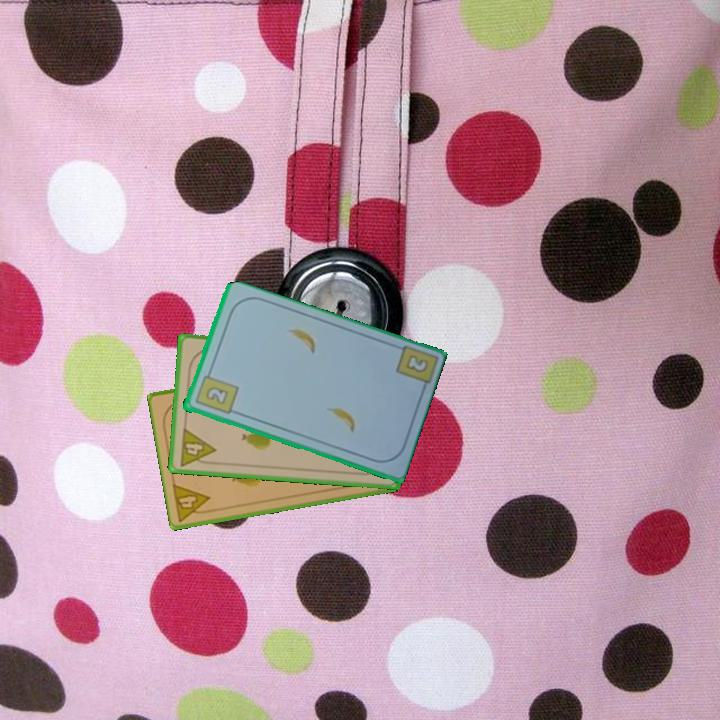2b: (191, 367, 240, 417), (402, 351, 431, 376)
4p: (169, 480, 216, 524), (176, 424, 218, 469)
